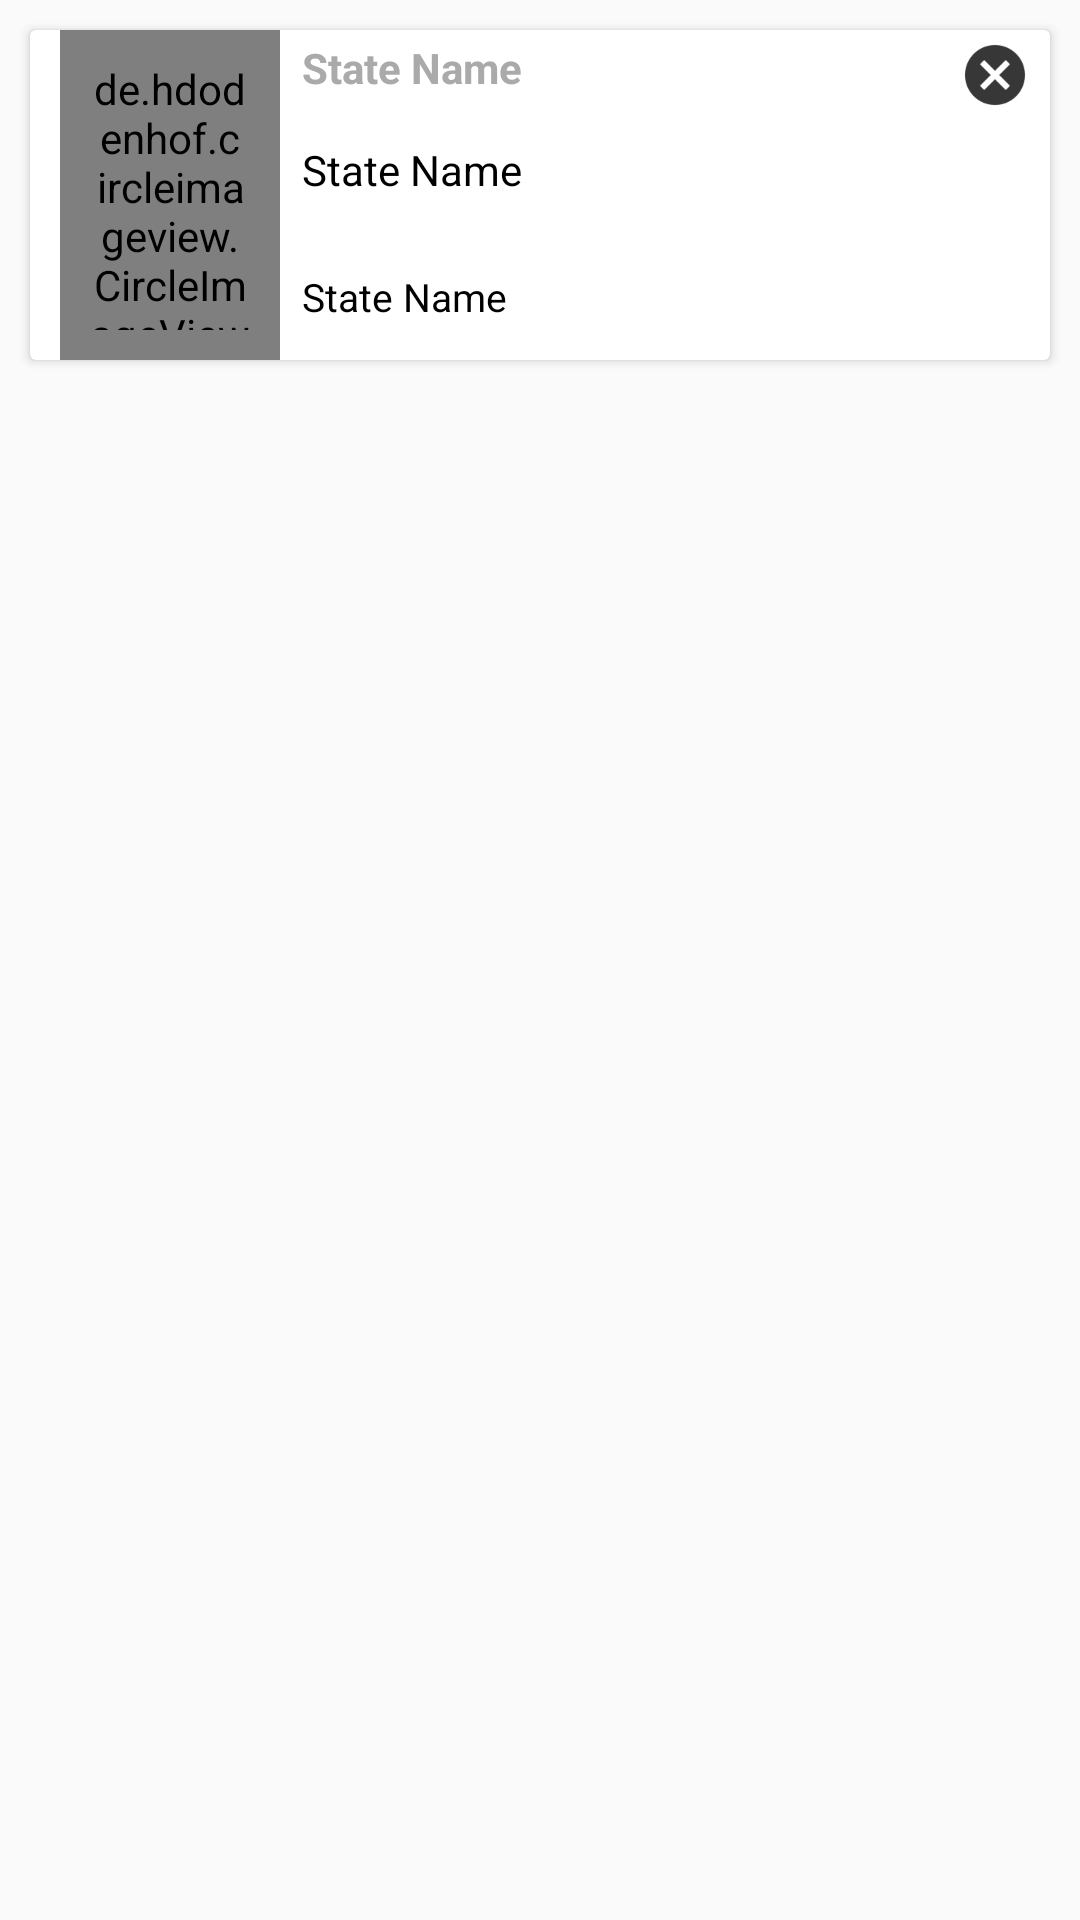

Point at icon controls on the screen. Image size 1080*1920, points as (x=x, y=y).
cross: (x=995, y=75)
